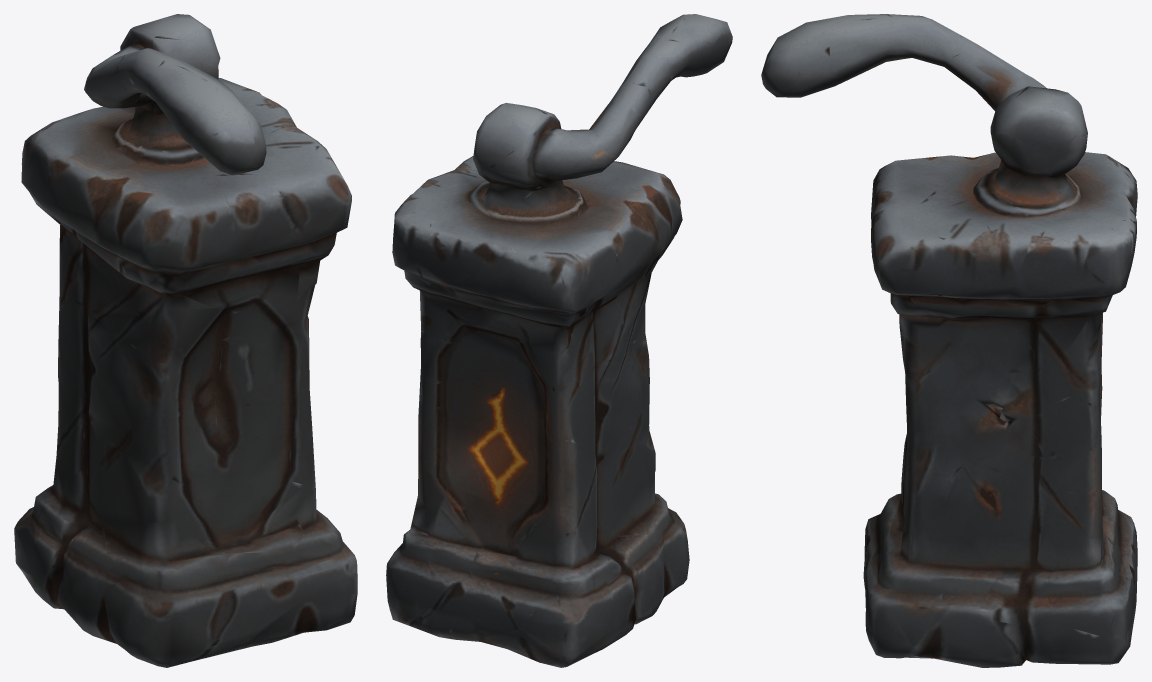
Rendered from lever_pillar.glb.
3 views of the same model, side by side, from view 1: azimuth 30°, elevation 25°; view 2: azimuth 150°, elevation 25°; view 3: azimuth 270°, elevation 25° (orthographic). The views are drawn at different scales.
Bounding box in the file's own units: 0.8385 × 2 × 1.2.
1 material, 1 textured.
